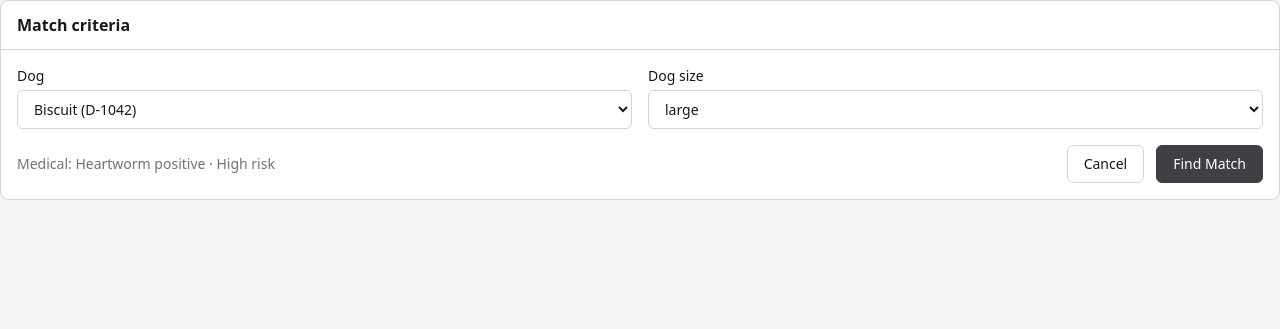
Test case: UC-5 Find Available Shelters (screen) › TC-5-04 / TC-5-09 (screen) no match: "No match found", widen, still none: search saved
Click the button "Find Match" at point(1210, 164), box [1156, 145, 1263, 183]
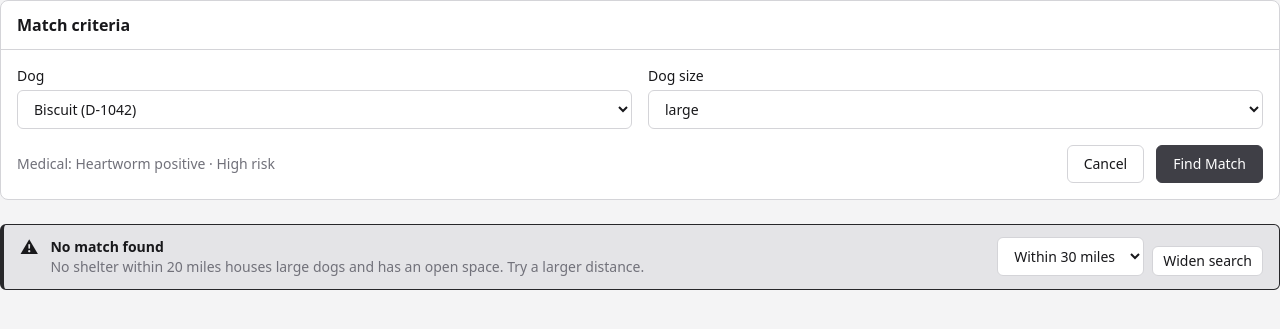
expect the text "No match found" is shown: met, box [50, 237, 164, 256]
Select "Within 50 miles" in the dropdown named "Search distance" at point(1071, 256), box [997, 237, 1144, 276]
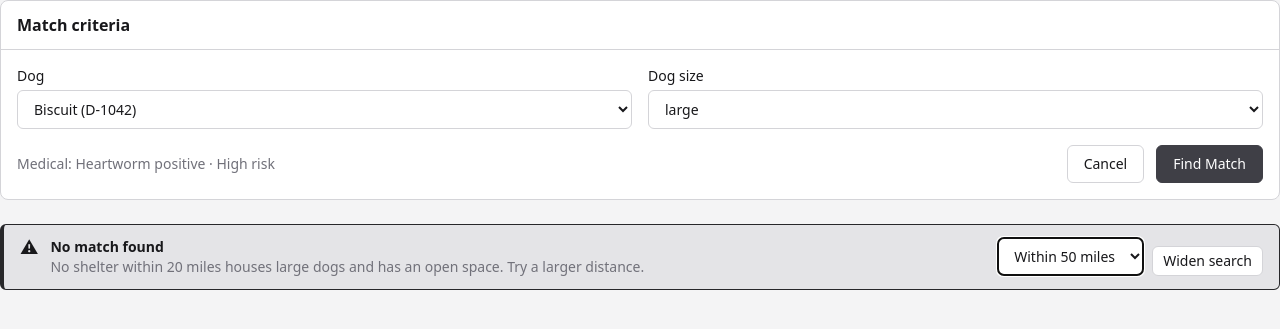
Click the button "Widen search" at point(1208, 261), box [1152, 246, 1263, 276]
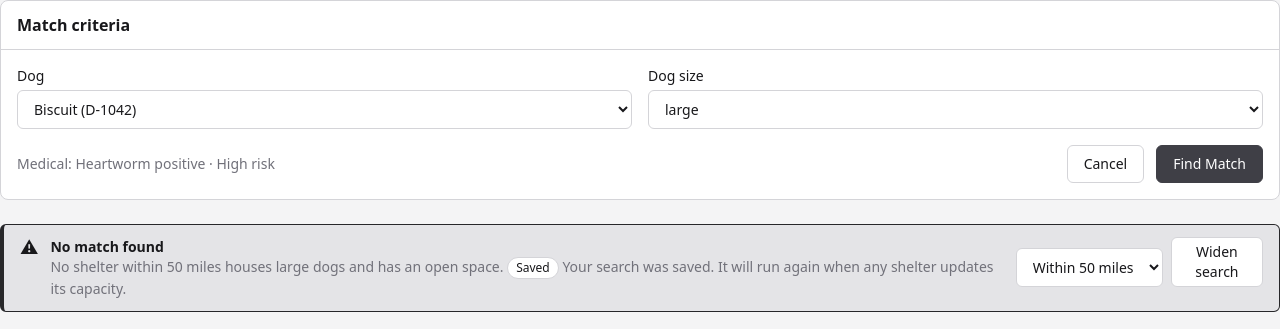
expect the text "Your search was saved. It will run again when any shelter updates its capacity." is shown: met, box [50, 257, 994, 298]
expect the text "No shelter within 50 miles" is shown: met, box [50, 257, 1000, 299]
